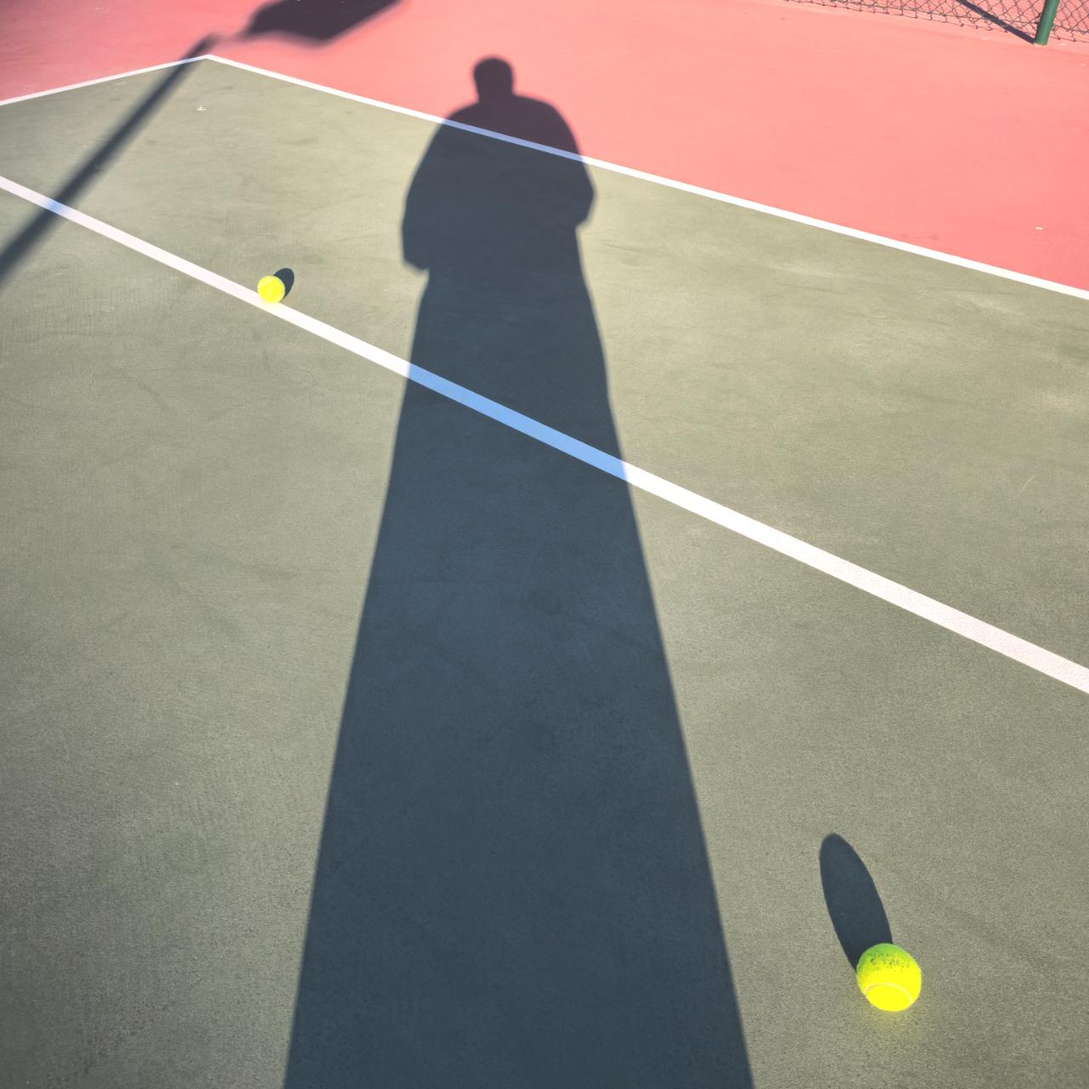tennis-ball: (854, 940, 924, 1012), (257, 273, 288, 304)
